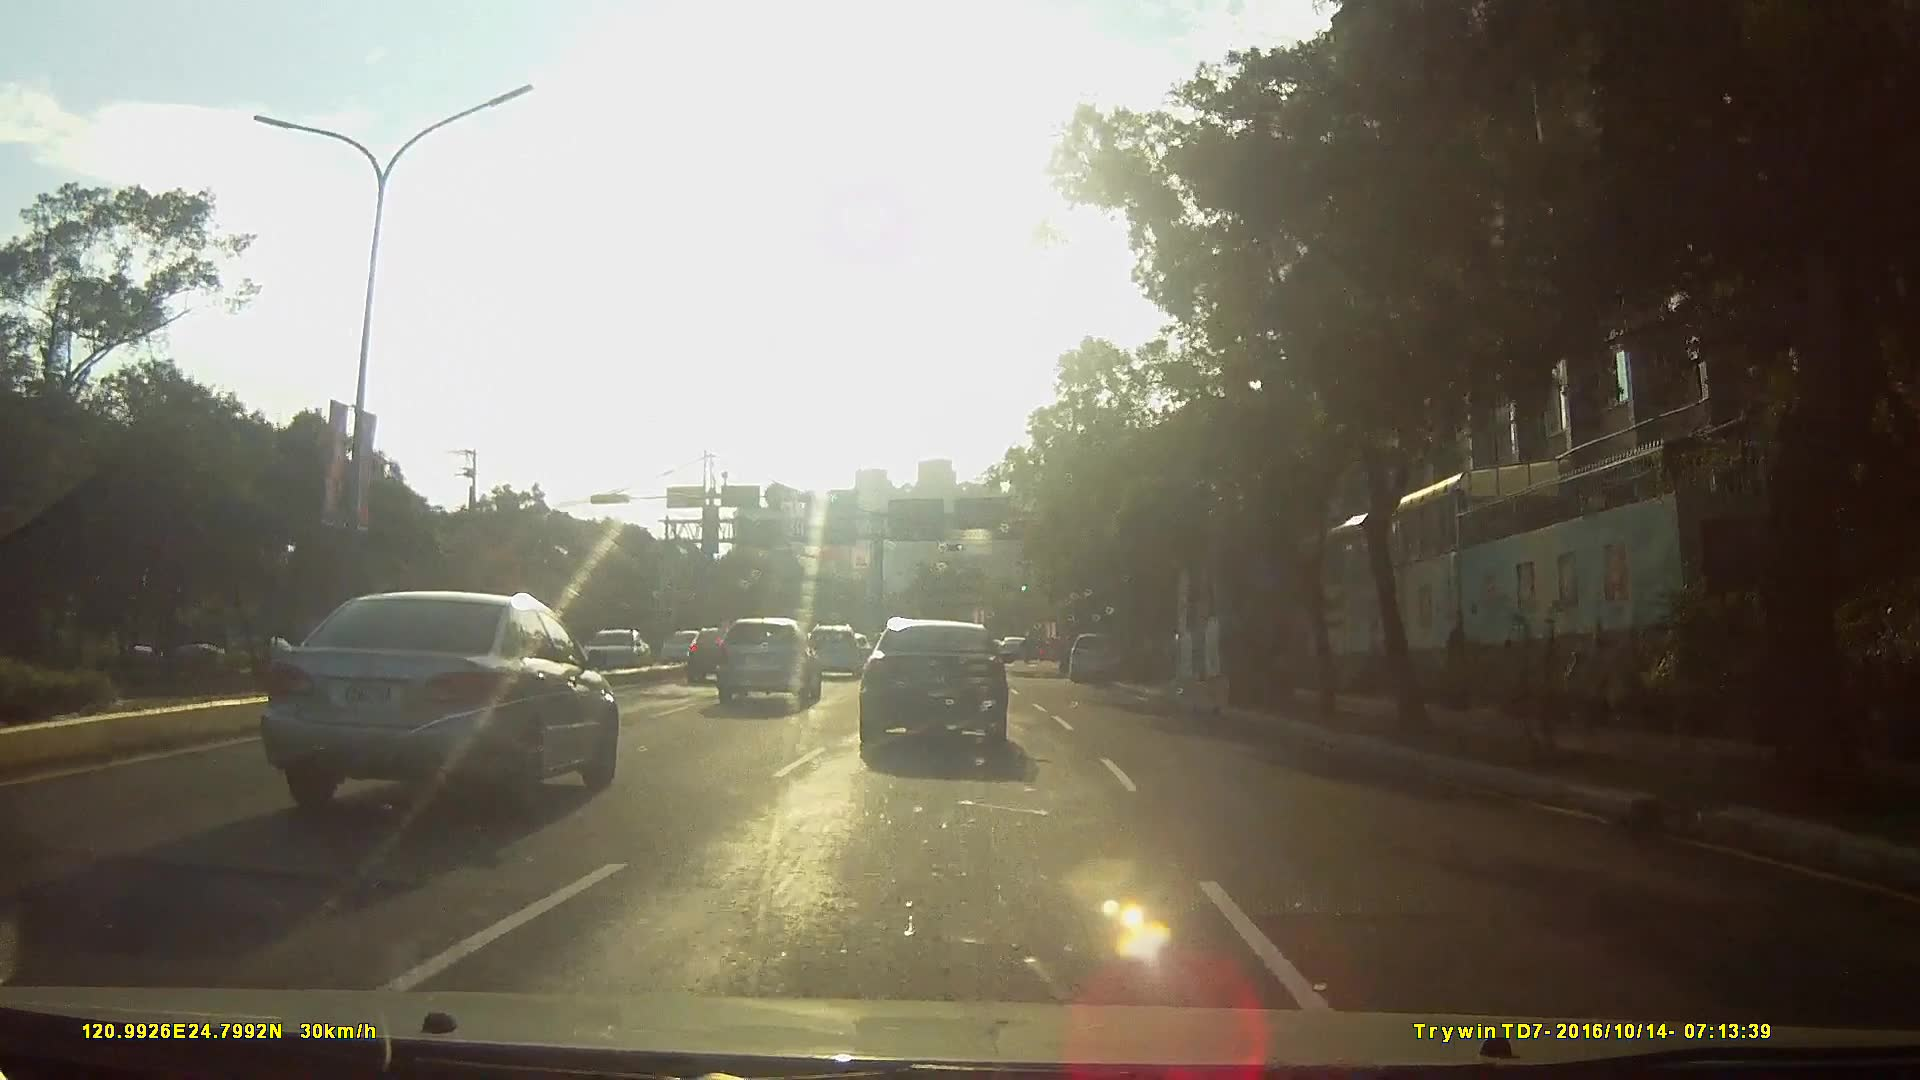vehicle: (237, 582, 633, 827), (858, 609, 1034, 760), (713, 613, 822, 707), (571, 618, 661, 673), (673, 621, 742, 680), (802, 621, 865, 676), (1065, 629, 1124, 680), (659, 626, 711, 665)
